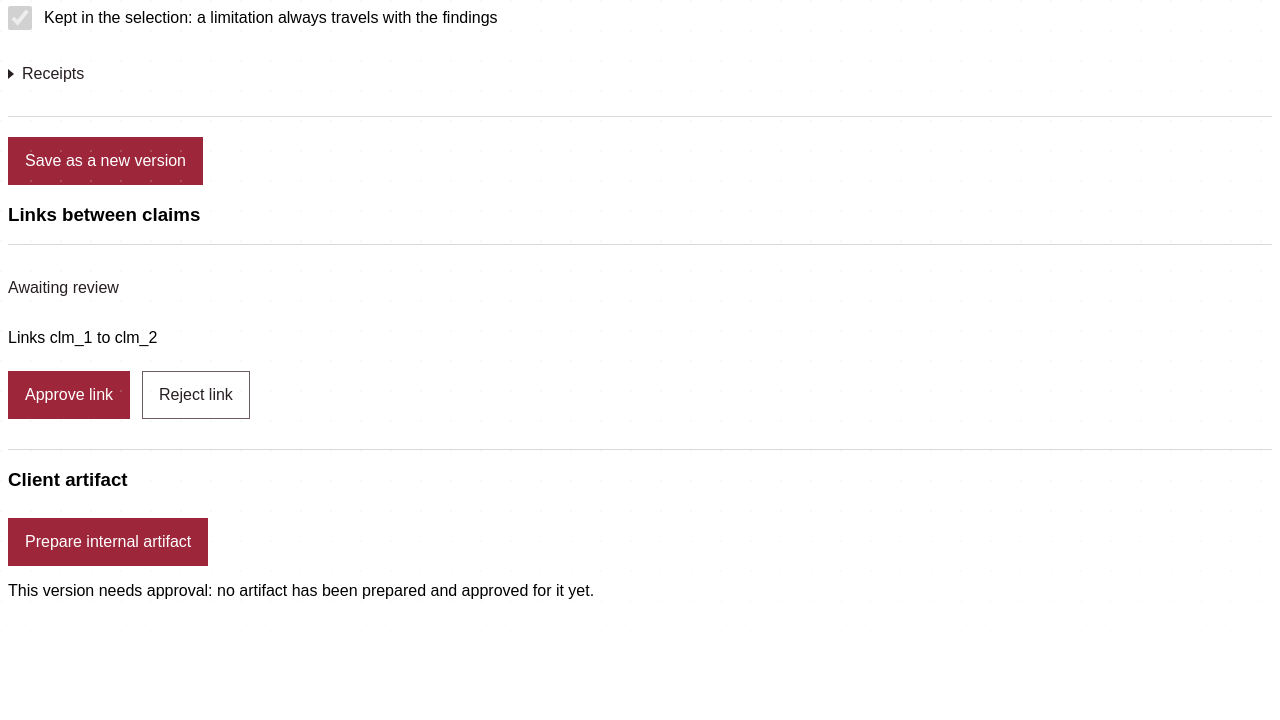
the working sequence › a 503 review_authority_unavailable refusal is shown in plain words
(page scrolled)
Click the button "Approve link" at x=69, y=395, box [8, 371, 130, 419]
(page scrolled)
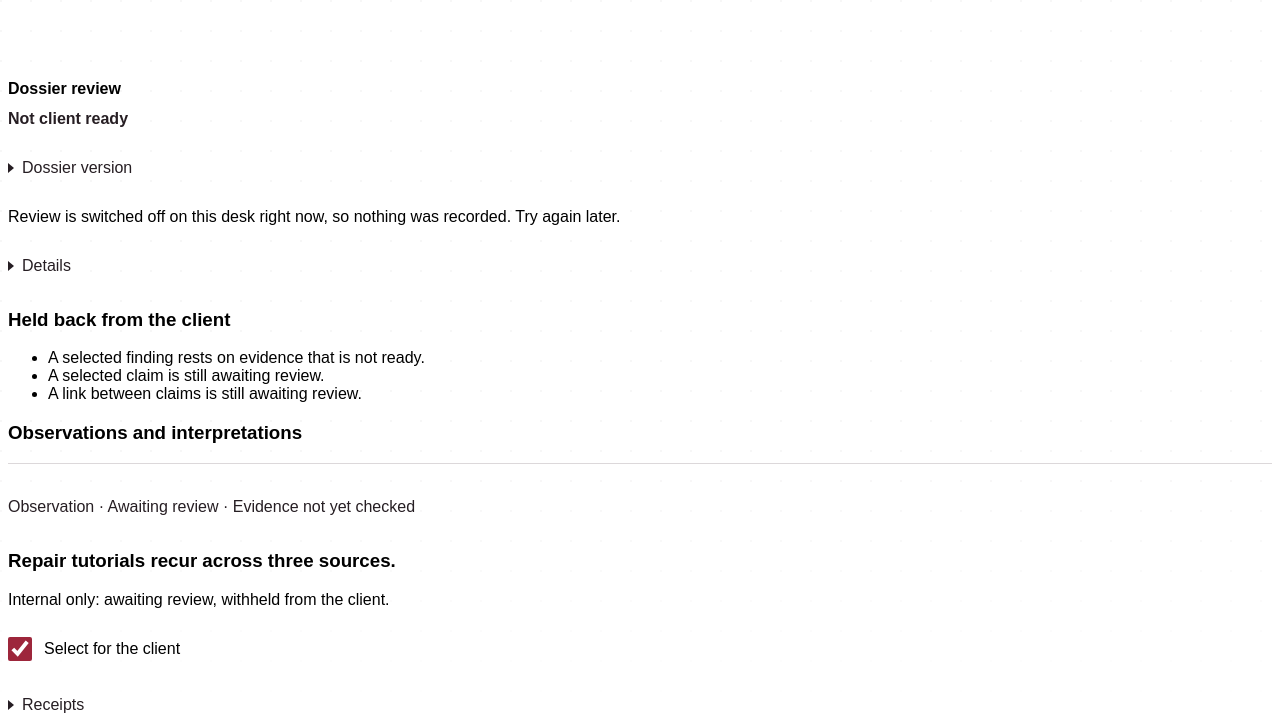
Expected: the message shows "nothing was recorded", [8, 208, 620, 225]
